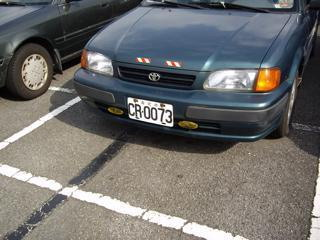plate: (125, 95, 174, 129)
